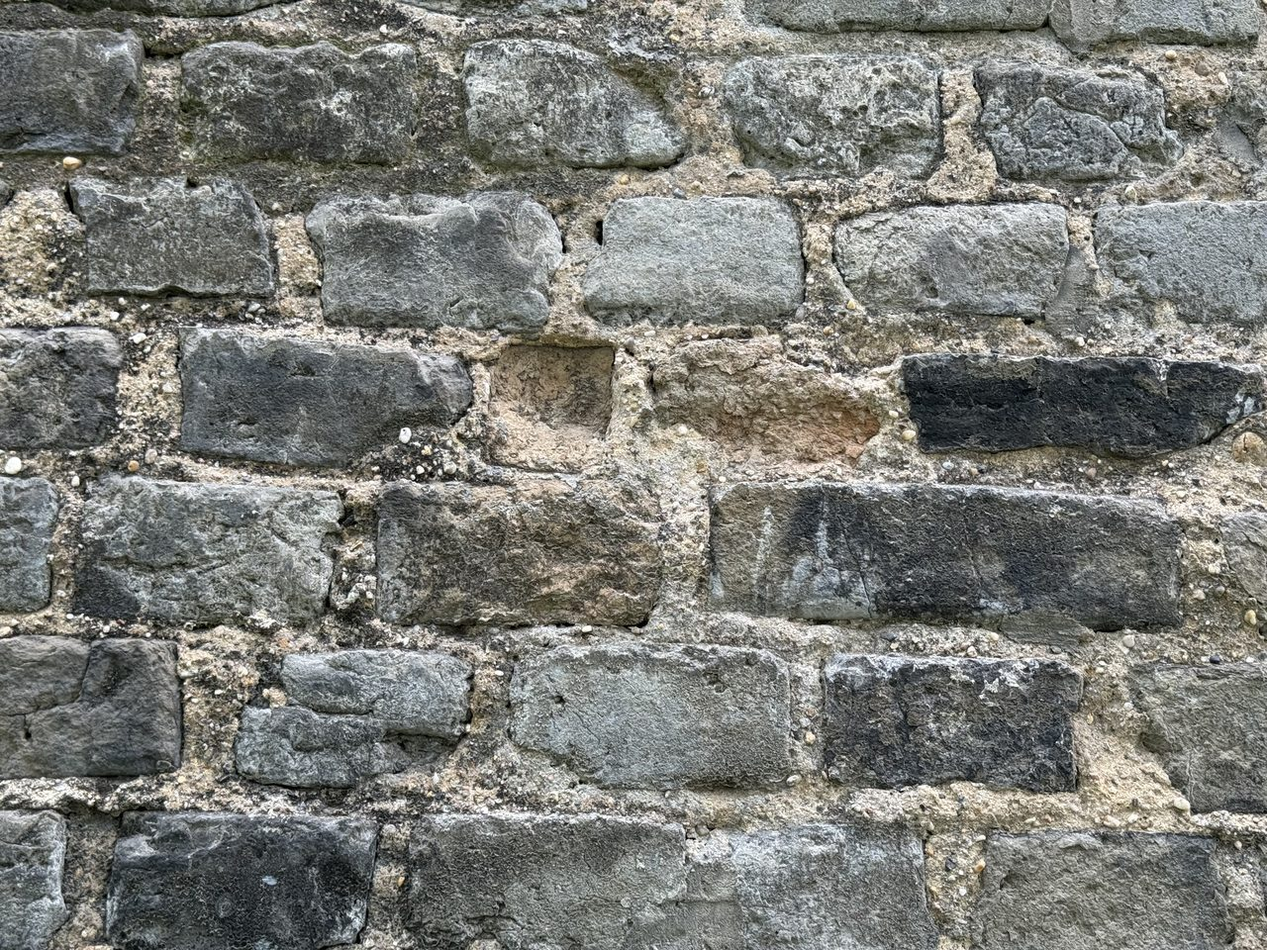brick_loss: (436, 312, 622, 471)
